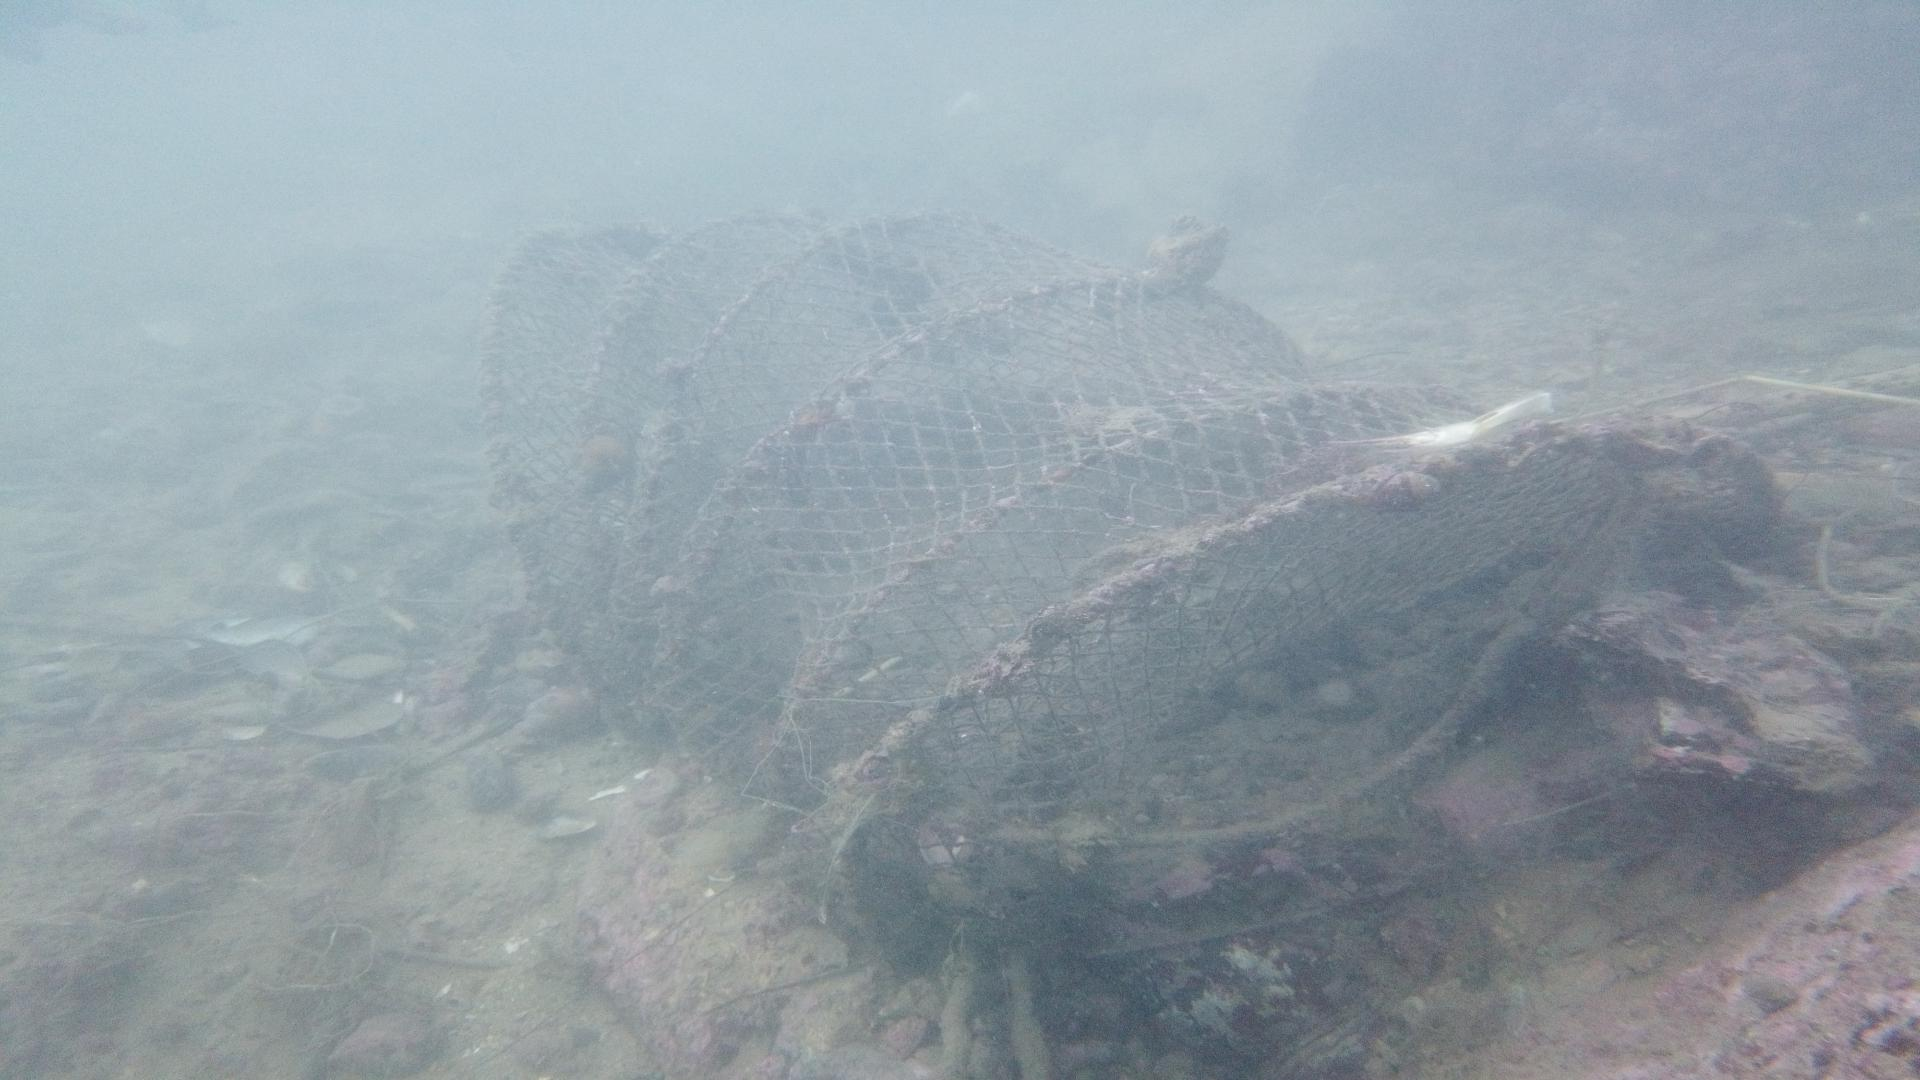spring fish trap: (471, 211, 1783, 975)
